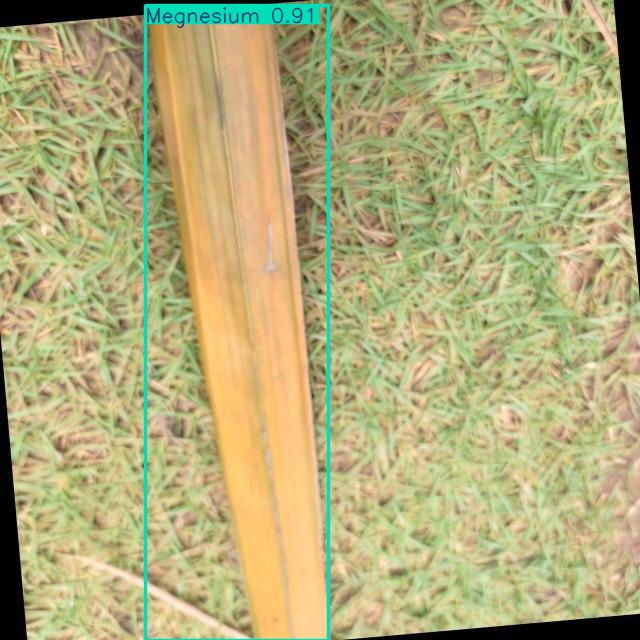Megnesium: (145, 6, 329, 640)
